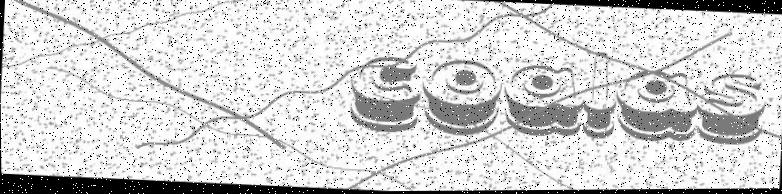a: (613, 67, 698, 145), (501, 62, 585, 140)
c: (345, 53, 422, 135)
l: (580, 49, 618, 142)
o: (419, 58, 504, 140)
s: (694, 71, 767, 149)
